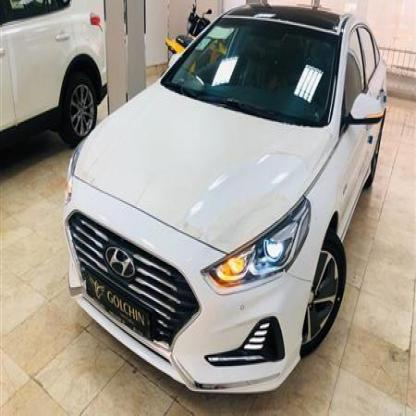Car: (69, 0, 386, 416), (0, 0, 108, 165)
